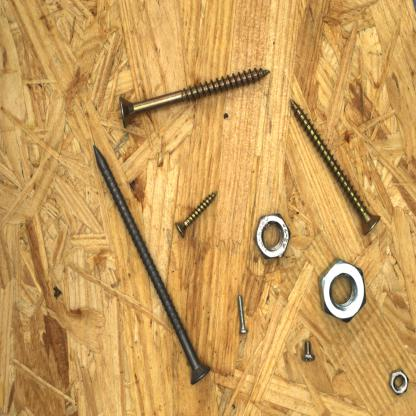screw: (93, 144, 213, 388), (287, 97, 384, 237), (117, 67, 273, 128), (172, 186, 221, 240), (236, 294, 248, 334), (301, 338, 317, 364)
